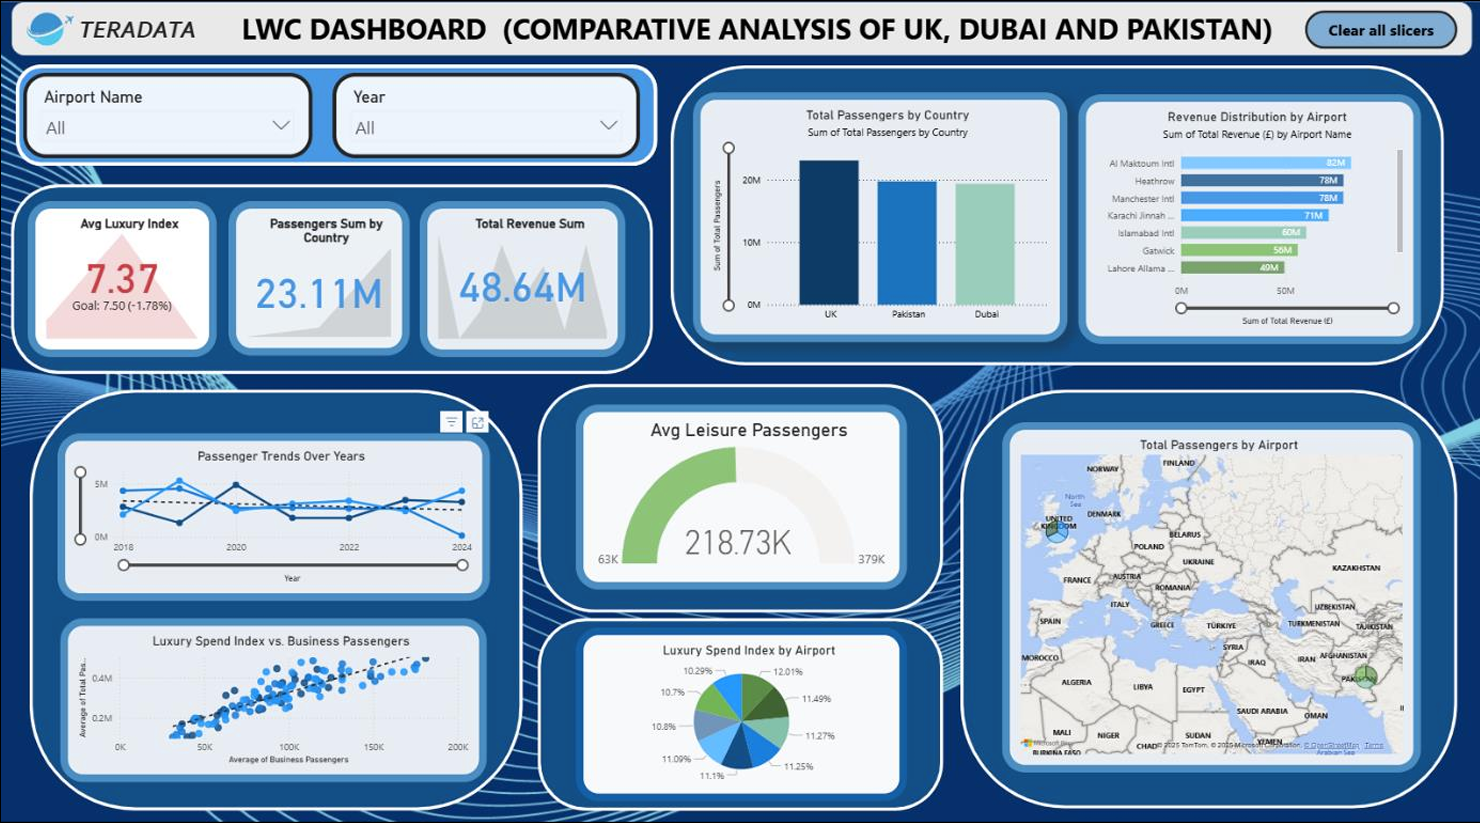

The dashboard page shown, as its layout file describes it:
{"tool":"powerbi","page":{"name":"Dashboard","canvas":[1920,1080],"ordinal":0},"visuals":[{"type":"shape","box":[692.5,810,532.5,252.5],"z":0},{"type":"shape","box":[866,84,1016,394],"z":1000},{"type":"shape","box":[25,510,647.5,552.5],"z":2000},{"type":"shape","box":[0,0,1920,72],"z":3000},{"type":"image","box":[16.3,0,71.1,72.6],"z":4000},{"type":"textbox","box":[84,12,194,60],"z":5000},{"type":"textbox","box":[297.5,5,1377.5,62.5],"z":6000},{"type":"actionButton","box":[1700,12.5,200,50],"z":7000},{"type":"shape","box":[6.1,82.9,843,133.4],"z":8000},{"type":"slicer","fields":{"Values":["All Data.Airport Name"]},"box":[16,94,380,112],"z":9000},{"type":"slicer","fields":{"Values":["All Data.Year"]},"box":[422,94,404,112],"z":10000},{"type":"shape","box":[0,240,843.3,248.9],"z":11000},{"type":"kpi","title":"Avg Luxury Index","fields":{"Indicator":["All Data.Avg_Luxury_Index"],"TrendLine":["All Data.Country"],"Goal":["Median(All Data.Luxury Spend Index)"]},"box":[22.5,262.5,247.5,205],"z":12000},{"type":"kpi","title":"Passengers Sum by Country","fields":{"Indicator":["All Data.Total_Passengers_Sum"],"TrendLine":["All Data.Country"]},"box":[285,262.5,237.5,202.5],"z":13000},{"type":"kpi","title":"Total Revenue Sum","fields":{"Indicator":["All Data.Total_Revenue_Sum"],"TrendLine":["All Data.Airport Name"]},"box":[537.5,262.5,270,205],"z":14000},{"type":"clusteredColumnChart","title":"Total Passengers by Country","fields":{"Category":["All Data.Country"],"Y":["Sum(All Data.Total Passengers)"]},"box":[896,120,492,328],"z":15000},{"type":"barChart","title":"Revenue Distribution by Airport","fields":{"Category":["All Data.Airport Name"],"Y":["Sum(All Data.Total Revenue (£))"]},"box":[1402,122,450,328],"z":16000},{"type":"scatterChart","title":"Luxury Spend Index vs. Business Passengers","fields":{"Series":["All Data.Country"],"Category":["All Data.Luxury Spend Index"],"X":["Avg(All Data.Business Passengers)"],"Y":["Avg(All Data.Total Passengers)"]},"box":[65,810,560,215],"z":17000},{"type":"lineChart","title":"Passenger Trends Over Years","fields":{"Category":["All Data.Year"],"Y":["Sum(All Data.Total Passengers)"],"Series":["All Data.Country"]},"box":[60.6,568,568,220.3],"z":18000},{"type":"shape","box":[1247.5,510,652.5,550],"z":19000},{"type":"map","title":"Total Passengers by Airport","fields":{"Series":["All Data.Airport Name"],"Category":["All Data.Country"],"Size":["Avg(All Data.Total Passengers)"]},"box":[1302.5,552.5,550,460],"z":20000},{"type":"shape","box":[692.5,502.5,532.5,300],"z":21000},{"type":"gauge","title":"Avg Leisure Passengers","fields":{"Y":["Avg(All Data.Leisure Passengers)"],"MinValue":["Min(All Data.Leisure Passengers)1"],"MaxValue":["Max(All Data.Leisure Passengers)2"]},"box":[742.5,530,435,242.5],"z":22000},{"type":"pieChart","title":"Luxury Spend Index by Airport","fields":{"Category":["All Data.Airport Name"],"Y":["Avg(All Data.Luxury Spend Index)"]},"box":[742.5,822.5,435,227.5],"z":23000}]}

Visuals, with their boxes in screenshot pixels (x1, y1, x2, y2), scaled from the page's 1920x1080 canvas onto the 1480x823 screenshot:
shape: rect(534, 617, 944, 810)
shape: rect(668, 64, 1451, 364)
shape: rect(19, 389, 518, 810)
shape: rect(0, 0, 1479, 55)
image: rect(13, 0, 67, 55)
textbox: rect(65, 9, 214, 55)
textbox: rect(229, 4, 1291, 51)
actionButton: rect(1310, 10, 1465, 48)
shape: rect(5, 63, 655, 165)
slicer - All Data.Airport Name: rect(12, 72, 305, 157)
slicer - All Data.Year: rect(325, 72, 637, 157)
shape: rect(0, 183, 650, 373)
"Avg Luxury Index" kpi: rect(17, 200, 208, 356)
"Passengers Sum by Country" kpi: rect(220, 200, 403, 354)
"Total Revenue Sum" kpi: rect(414, 200, 622, 356)
"Total Passengers by Country" clusteredColumnChart: rect(691, 91, 1070, 341)
"Revenue Distribution by Airport" barChart: rect(1081, 93, 1428, 343)
"Luxury Spend Index vs. Business Passengers" scatterChart: rect(50, 617, 482, 781)
"Passenger Trends Over Years" lineChart: rect(47, 433, 485, 601)
shape: rect(962, 389, 1465, 808)
"Total Passengers by Airport" map: rect(1004, 421, 1428, 772)
shape: rect(534, 383, 944, 612)
"Avg Leisure Passengers" gauge: rect(572, 404, 908, 589)
"Luxury Spend Index by Airport" pieChart: rect(572, 627, 908, 800)
